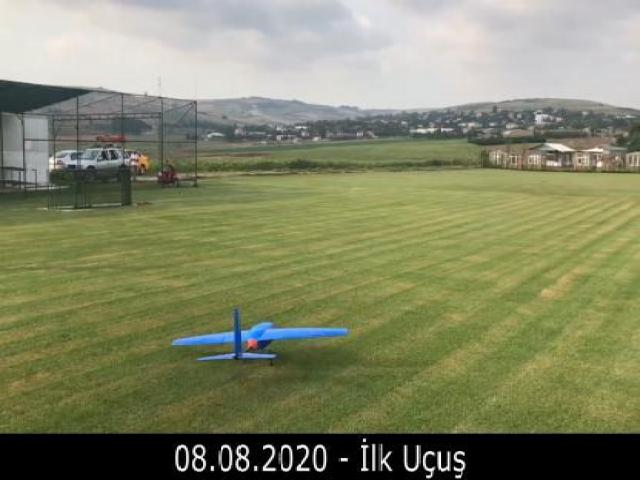uav: (164, 298, 358, 376)
